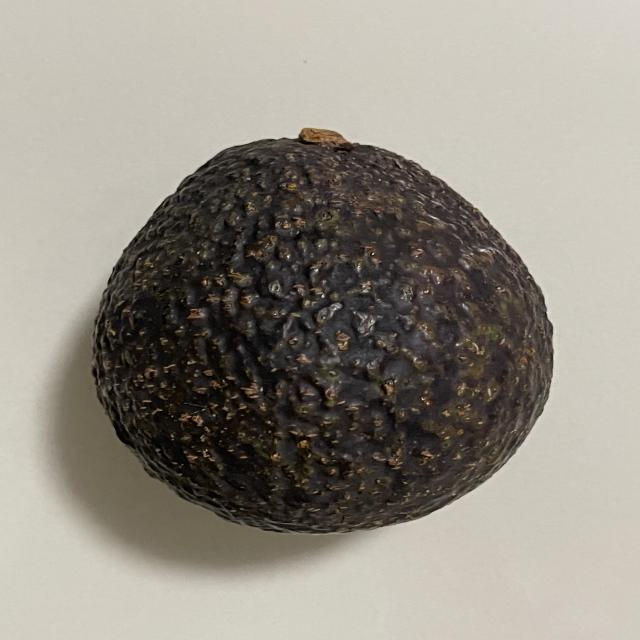Level2: (87, 124, 560, 540)
